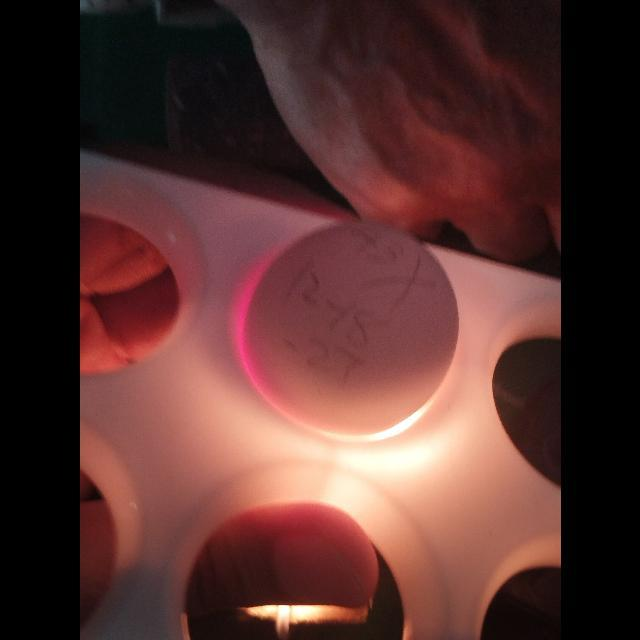Fertile: (230, 218, 462, 444)
